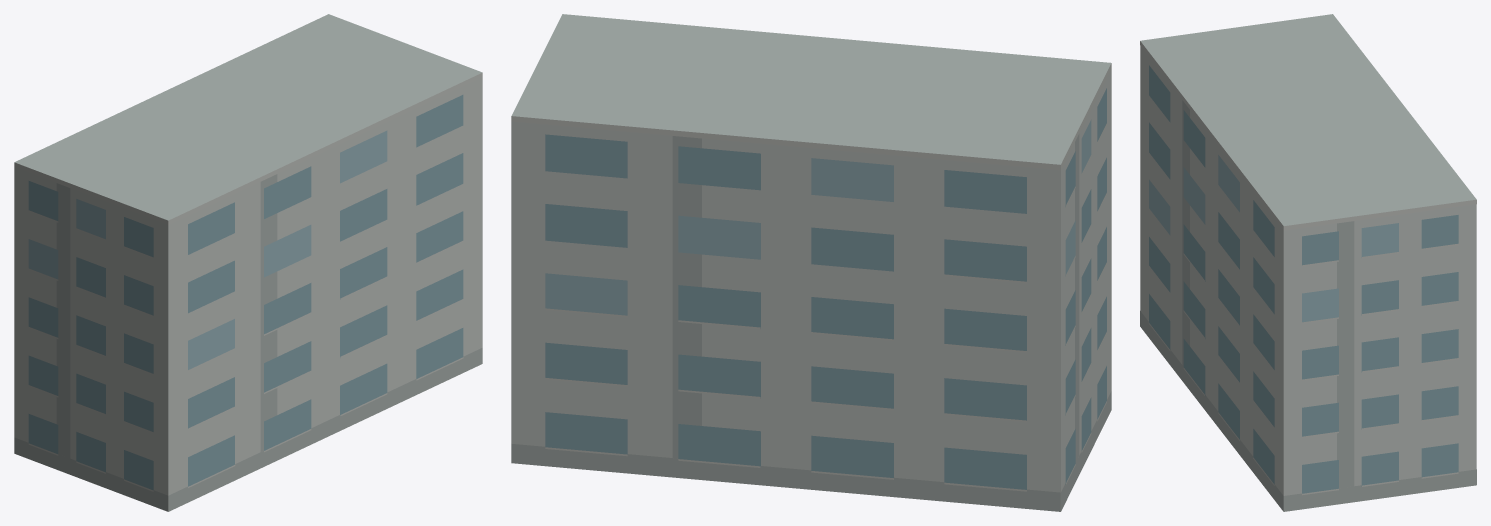
The model's file is residential-03e871d5-a875-4b64-9e4f-cfaad9c58ffa.glb.
3 renders of one model, left to right at view 1: azimuth 30°, elevation 25°; view 2: azimuth 150°, elevation 25°; view 3: azimuth 270°, elevation 25°, orthographic. The views are drawn at different scales.
Parts seen in each view (by area): view 1: residential-03e871d5-a875-4b64-9e4f-cfaad9c58ffa.tmp; view 2: residential-03e871d5-a875-4b64-9e4f-cfaad9c58ffa.tmp; view 3: residential-03e871d5-a875-4b64-9e4f-cfaad9c58ffa.tmp.
Part boxes in pixels (x1,y1,x2,y2): residential-03e871d5-a875-4b64-9e4f-cfaad9c58ffa.tmp: (14,14,482,511); residential-03e871d5-a875-4b64-9e4f-cfaad9c58ffa.tmp: (511,14,1111,511); residential-03e871d5-a875-4b64-9e4f-cfaad9c58ffa.tmp: (1140,14,1476,511).
Bounding box in the file's own units: 24.3 × 15.25 × 16.3.
